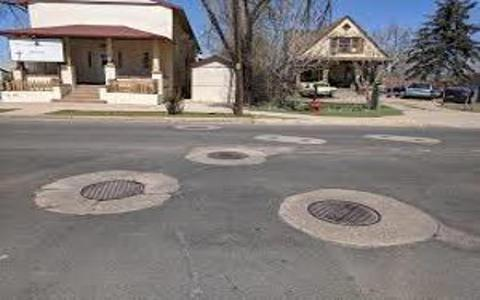proper manhole: (292, 179, 391, 242), (60, 166, 155, 209), (189, 141, 267, 172)
